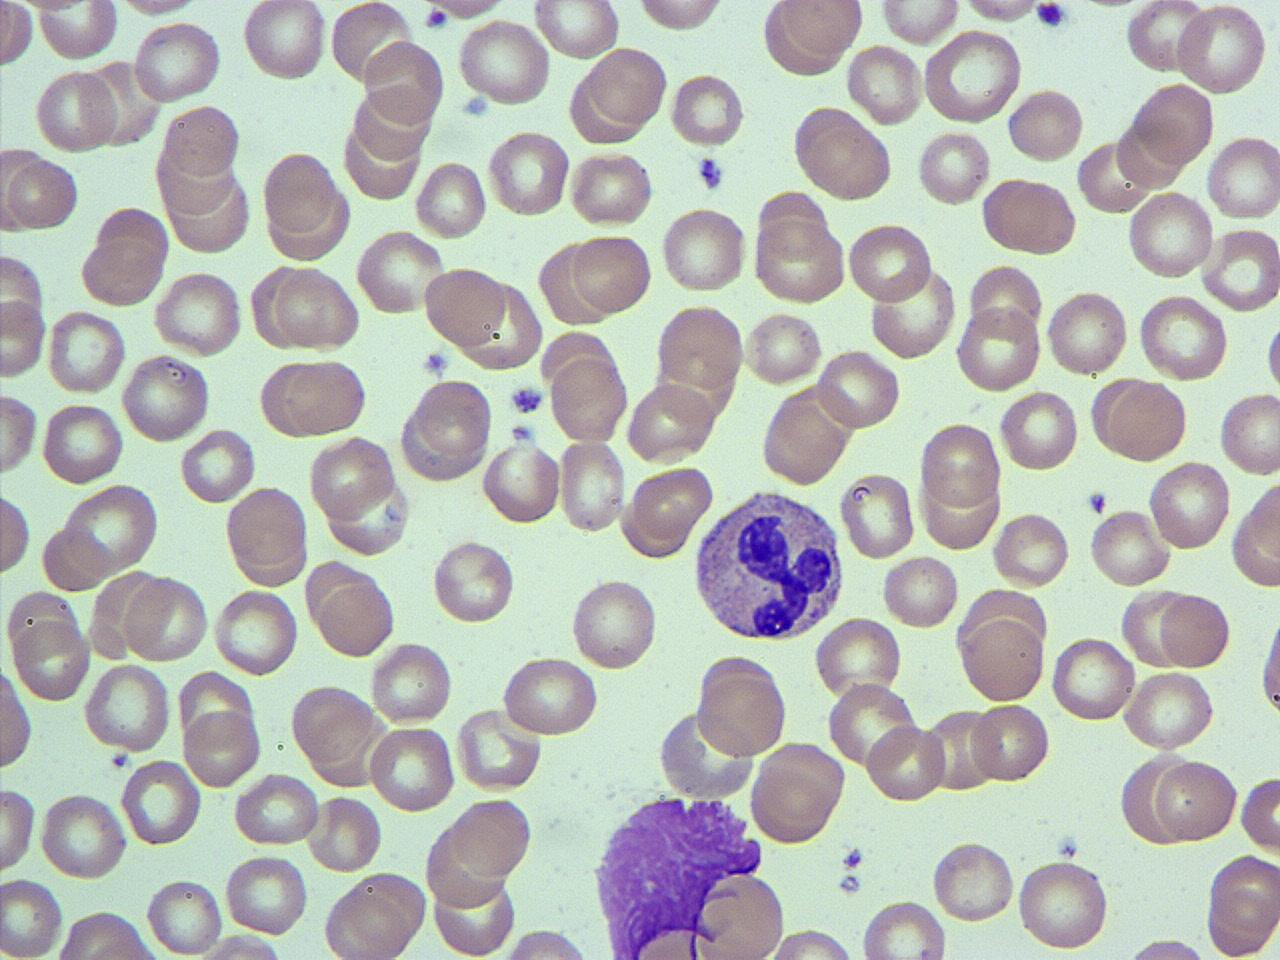Platelets: (508, 381, 548, 418), (696, 152, 726, 194), (1032, 2, 1068, 30), (457, 93, 491, 120), (508, 421, 540, 444), (1087, 486, 1107, 516), (422, 8, 447, 30)
RBC: (748, 739, 848, 847), (692, 654, 791, 760), (920, 27, 1024, 125), (791, 107, 896, 204), (1014, 855, 1111, 954), (866, 262, 958, 362), (63, 480, 161, 574), (1174, 1, 1268, 98), (758, 388, 850, 487), (569, 574, 659, 675), (689, 870, 789, 960), (223, 484, 310, 586), (824, 678, 920, 770), (37, 788, 129, 884), (1124, 188, 1215, 282), (209, 584, 300, 679), (752, 215, 848, 306), (456, 18, 552, 108), (500, 652, 600, 739), (82, 659, 172, 754), (656, 301, 748, 393), (120, 351, 212, 444), (366, 722, 457, 816), (353, 228, 447, 318), (659, 202, 749, 296), (812, 614, 906, 704), (1146, 456, 1232, 554), (980, 174, 1080, 256), (952, 303, 1042, 394), (154, 266, 246, 356), (1137, 293, 1231, 381), (306, 434, 396, 524), (273, 263, 364, 353), (1203, 850, 1280, 956), (959, 613, 1046, 706), (1049, 632, 1137, 723), (361, 36, 446, 129), (929, 837, 1017, 927), (486, 127, 571, 219), (119, 756, 203, 850), (124, 570, 208, 664), (454, 704, 542, 792), (368, 638, 455, 728), (31, 65, 118, 154), (45, 305, 128, 398), (479, 434, 561, 527), (1123, 671, 1217, 753), (846, 219, 934, 306), (918, 419, 1004, 509), (130, 20, 221, 105), (624, 381, 716, 465), (446, 794, 534, 880), (223, 850, 310, 937), (814, 345, 902, 432), (1044, 288, 1130, 377), (431, 536, 516, 626), (329, 0, 414, 88), (1152, 757, 1238, 844), (548, 353, 629, 445), (278, 356, 370, 437), (567, 147, 656, 230), (838, 469, 916, 562), (321, 882, 414, 960), (241, 0, 328, 84), (570, 230, 654, 317), (968, 699, 1051, 786), (844, 40, 926, 128), (1199, 224, 1280, 313), (1106, 378, 1188, 464), (180, 704, 263, 790), (1119, 748, 1189, 848), (423, 263, 506, 348), (41, 400, 124, 485), (998, 388, 1080, 473), (1086, 506, 1172, 588), (13, 615, 92, 704), (1204, 131, 1280, 223), (144, 873, 226, 958), (1134, 81, 1214, 166), (556, 436, 626, 534), (865, 720, 946, 804), (316, 576, 398, 659), (629, 462, 714, 543), (306, 789, 384, 876), (414, 376, 494, 460), (232, 772, 321, 847), (178, 424, 258, 506), (989, 509, 1071, 589), (78, 236, 167, 309), (742, 308, 822, 388), (587, 45, 668, 125), (261, 148, 336, 235), (1074, 135, 1154, 216), (925, 706, 998, 794), (1123, 0, 1207, 75), (413, 157, 488, 242), (880, 552, 959, 630), (1005, 86, 1083, 164), (163, 102, 244, 178), (668, 71, 748, 147), (4, 154, 82, 232), (915, 127, 990, 207), (1158, 589, 1232, 670), (858, 896, 949, 960), (1228, 479, 1280, 590), (528, 0, 624, 61), (1119, 586, 1187, 670), (28, 0, 121, 62), (247, 262, 309, 352), (0, 873, 65, 959), (1218, 389, 1280, 476), (54, 908, 152, 960), (774, 0, 865, 56), (876, 0, 964, 47), (0, 295, 48, 380), (1, 663, 34, 771), (760, 926, 864, 960), (0, 782, 38, 874), (632, 0, 732, 35), (496, 926, 598, 960), (1238, 772, 1280, 852), (0, 390, 38, 476), (0, 484, 32, 582), (1115, 936, 1217, 960), (0, 0, 36, 68), (956, 0, 1045, 25)
WBC: (590, 782, 768, 958), (689, 484, 848, 646)
